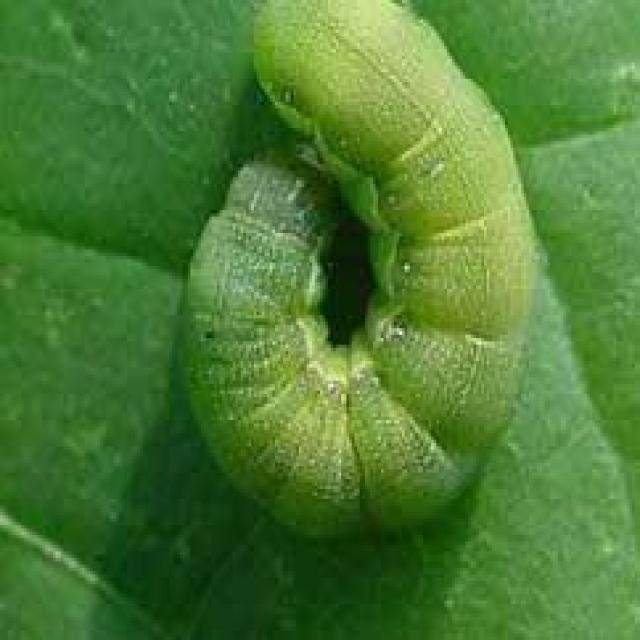BeetArmyWorm-Larva-: (146, 0, 558, 550)
